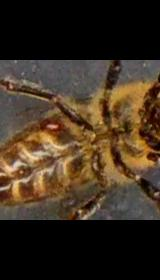varroa_mite: (32, 112, 67, 138)
